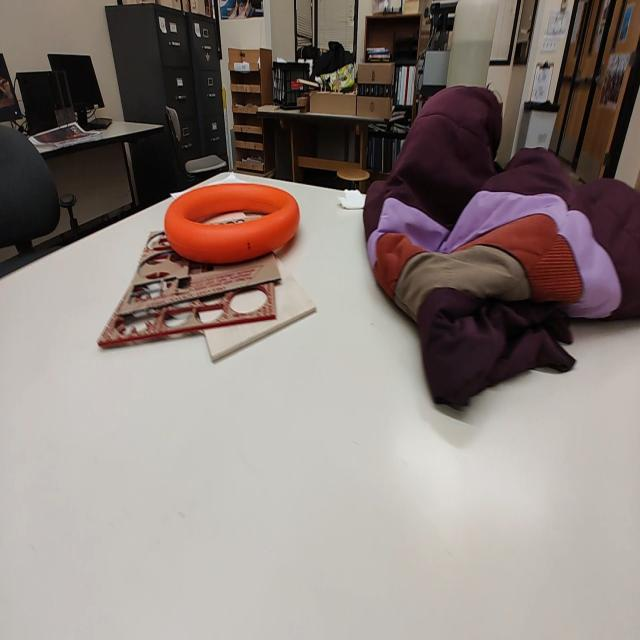note: (163, 178, 299, 268)
